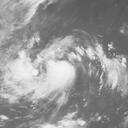cyclone: (47, 61, 75, 89)
